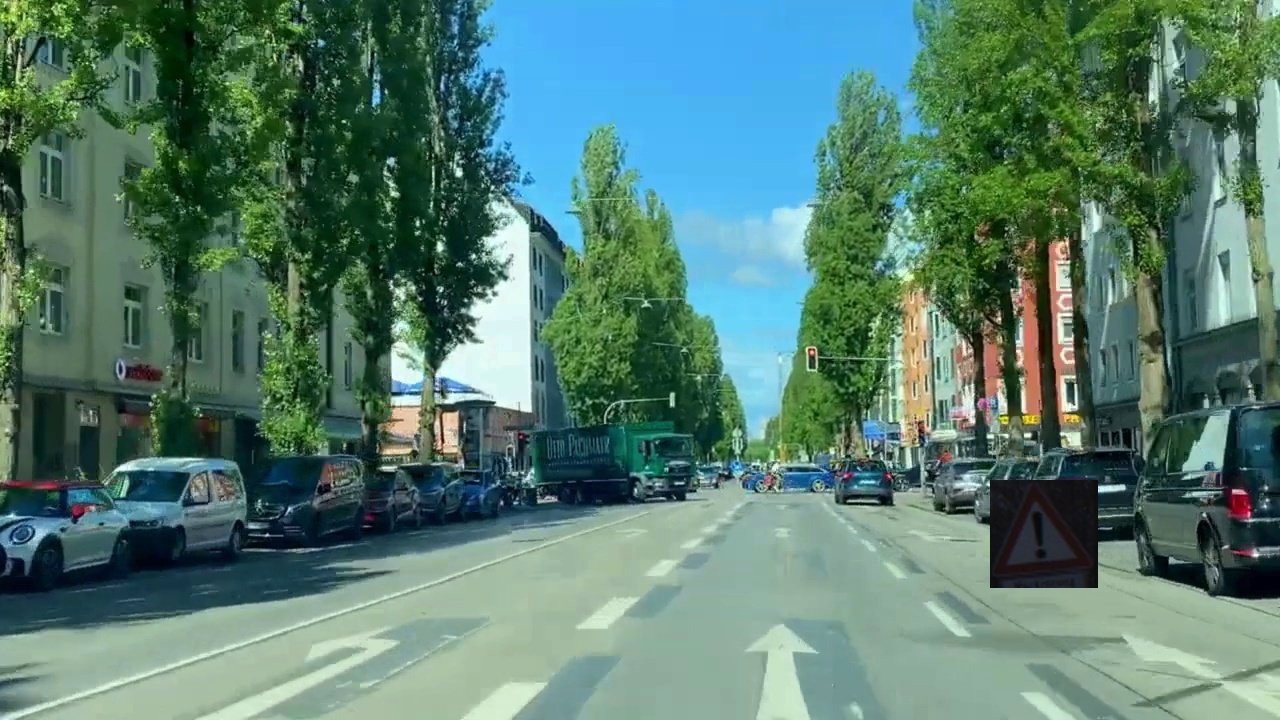Caution: (990, 480, 1098, 588)
